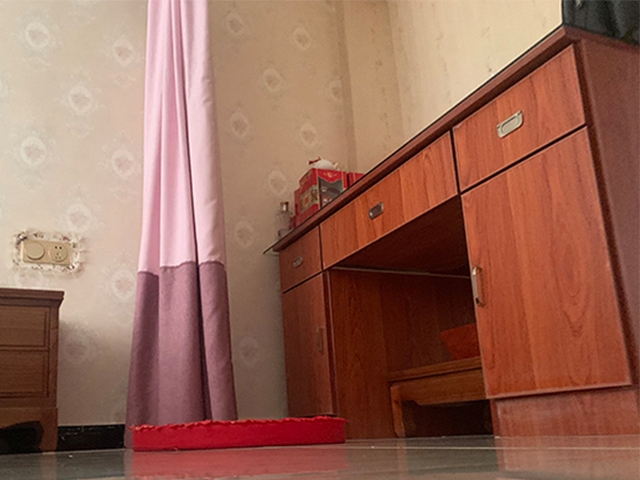cabinet: (1, 286, 65, 454)
curtain: (121, 1, 235, 450)
table: (263, 22, 640, 439)
